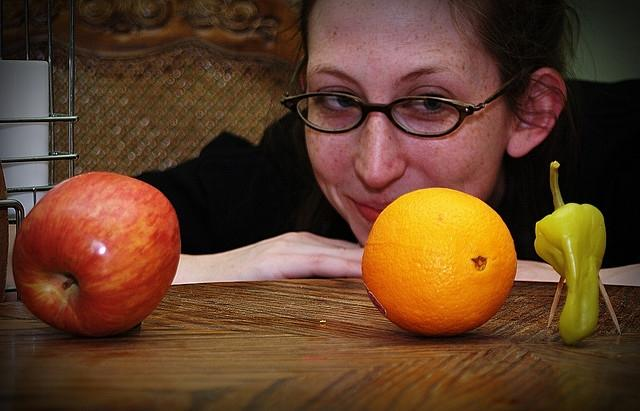apple: (12, 172, 182, 336)
bell pepper: (534, 160, 607, 346)
orange: (362, 187, 518, 338)
